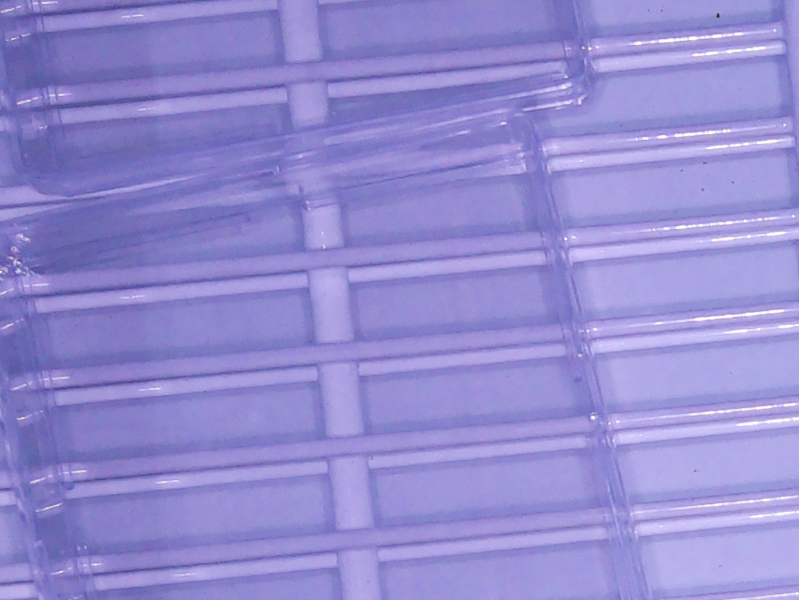plate: (1, 108, 651, 600), (1, 1, 600, 199)
